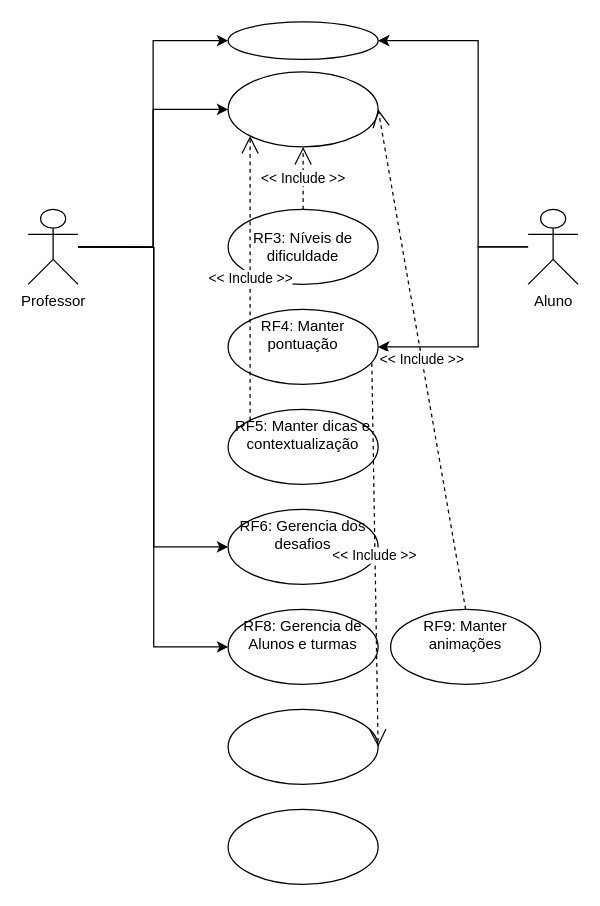
Some shapes in this 600 by 906 pixel diagram are drawn without their labels. Each missing label, with the centre of its shape:
RF10: Manter ranking da turma: pixel 302 746
RF15: Manter Efeitos sonoros e imagens: pixel 302 846
RF1: Manter cadastro: pixel 302 40
RF2: Manter perguntas e respostas: pixel 302 109
